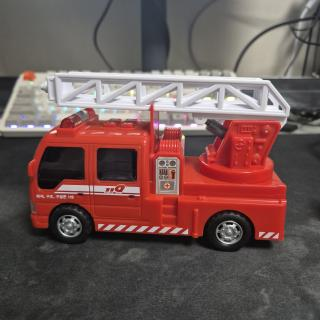Fire_truck: (28, 72, 289, 251)
